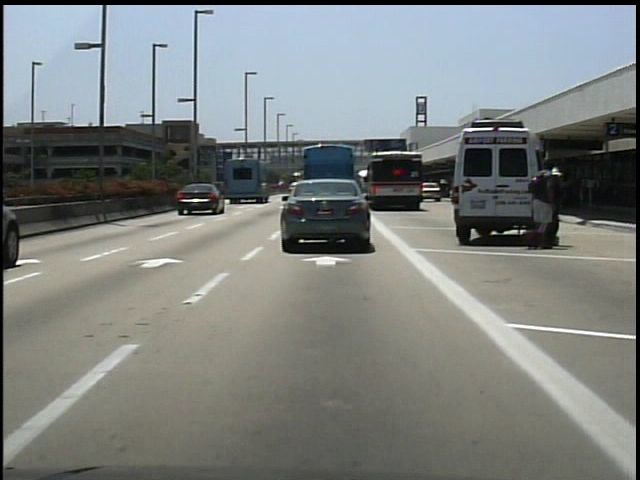person: (530, 162, 562, 250), (550, 169, 567, 246)
